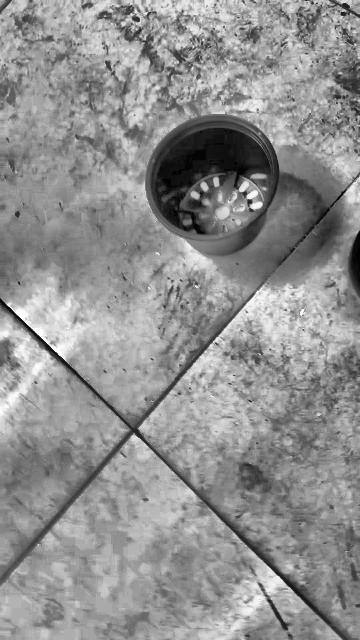pot: (147, 115, 279, 255)
